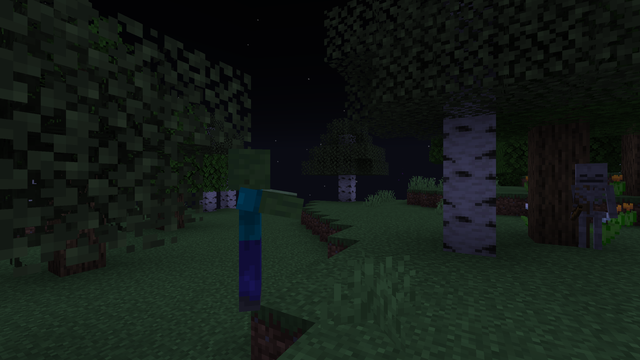squelettes: (570, 163, 613, 252)
zombies: (216, 151, 282, 317)
